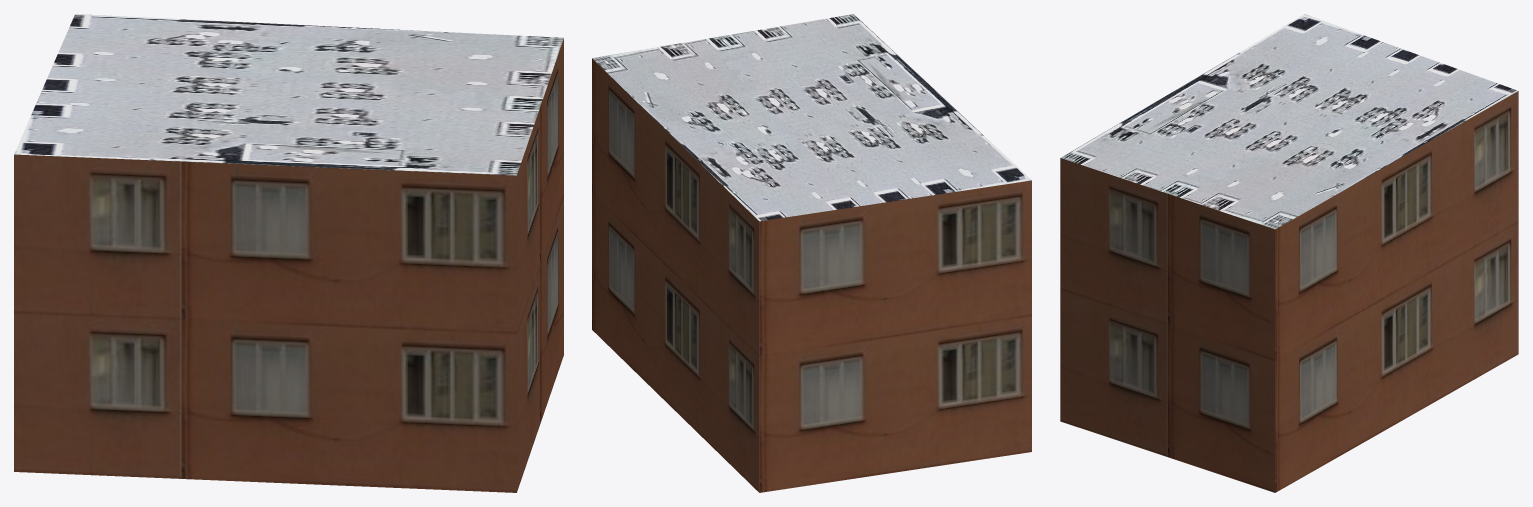
File: ResTex__202.fbx
3 views of the same model, side by side, from view 1: azimuth 30°, elevation 25°; view 2: azimuth 150°, elevation 25°; view 3: azimuth 270°, elevation 25° (orthographic). The views are drawn at different scales.
Visible parts, largest first — view 1: CityEngineMaterial_20_m, CityEngineMaterial_4_m; view 2: CityEngineMaterial_20_m, CityEngineMaterial_4_m; view 3: CityEngineMaterial_20_m, CityEngineMaterial_4_m.
Boxes of the visible parts, left/top/right/bottom form: CityEngineMaterial_20_m: left=14, top=38, right=563, bottom=492; CityEngineMaterial_4_m: left=14, top=14, right=563, bottom=175; CityEngineMaterial_20_m: left=592, top=58, right=1031, bottom=492; CityEngineMaterial_4_m: left=592, top=14, right=1031, bottom=221; CityEngineMaterial_20_m: left=1060, top=91, right=1518, bottom=492; CityEngineMaterial_4_m: left=1061, top=14, right=1517, bottom=229.
Size of the model in its own units: 10.53 by 6 by 9.46.
Materials: 2 (2 with a texture image).
